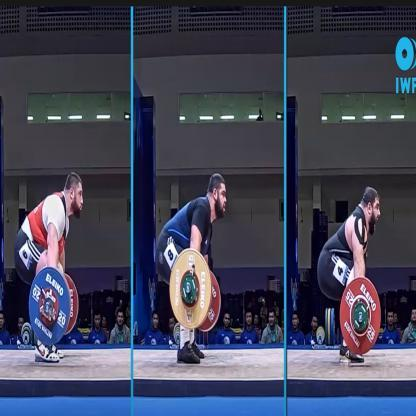Barbell: (358, 311, 366, 326), (185, 282, 193, 296), (45, 301, 52, 316)
